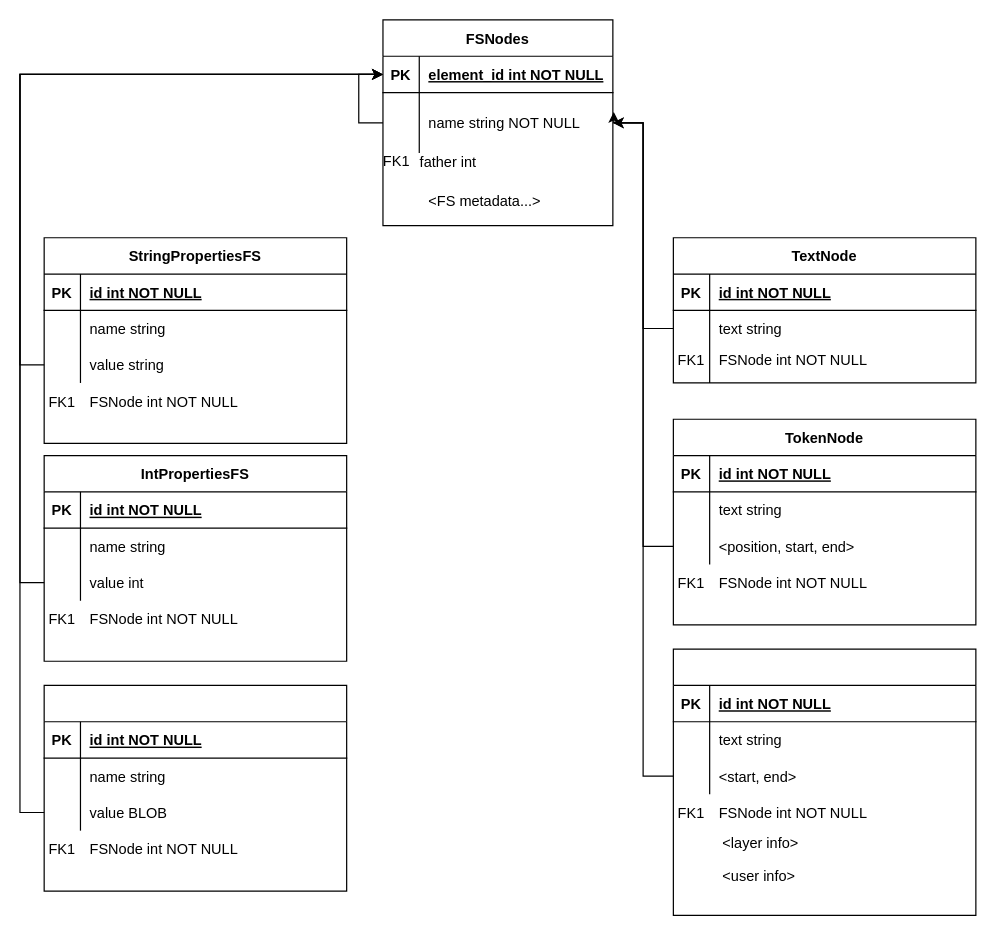
Image size: 999x935. Some labels were removed from this diagram. The shapes that lost their labels are listed below. From the top down, each one's box as (x1, y1, x2, y2) in pixels, then its label:
(43, 684, 347, 891): BLOBPropertiesFS
(672, 648, 976, 915): AnnotationNode
